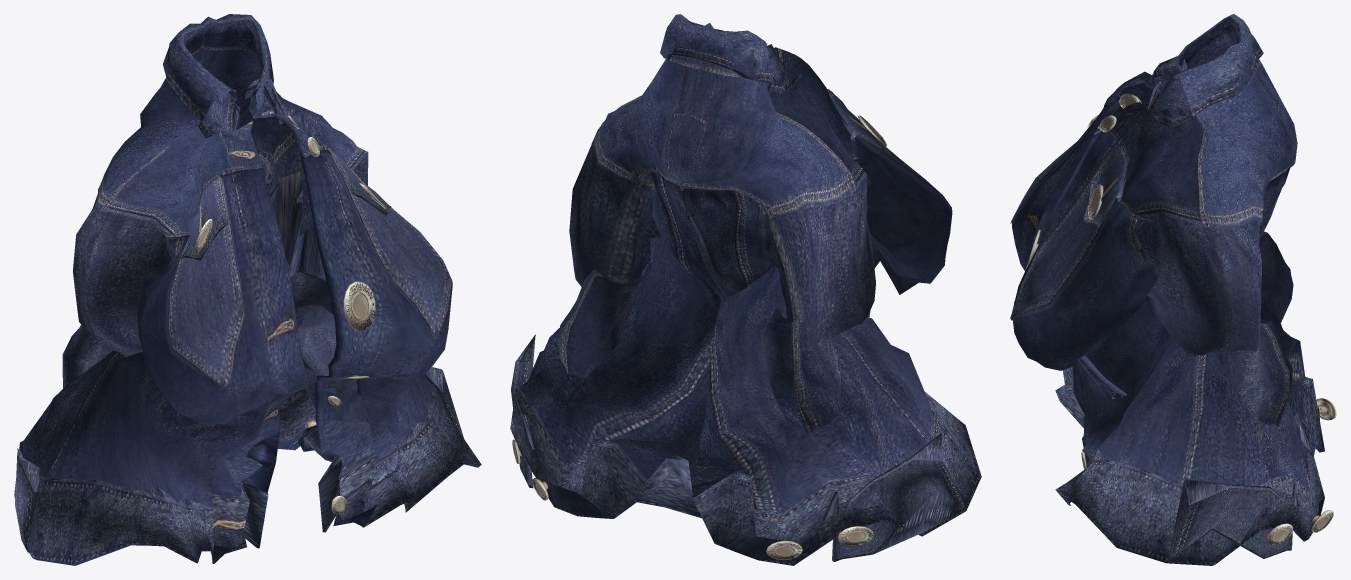
Rendered from jacket-denim.glb.
3 renders of one model, left to right at view 1: azimuth 30°, elevation 25°; view 2: azimuth 150°, elevation 25°; view 3: azimuth 270°, elevation 25°, orthographic. The views are drawn at different scales.
Parts seen in each view (by area): view 1: jacket-denim; view 2: jacket-denim; view 3: jacket-denim.
Boxes of the visible parts, x1,y1,x2,y2 form: jacket-denim: [14, 14, 481, 565]; jacket-denim: [510, 14, 981, 565]; jacket-denim: [1010, 14, 1336, 565].
Size of the model in its own units: 0.439 by 0.4627 by 0.2982.
1 material, 1 textured.
